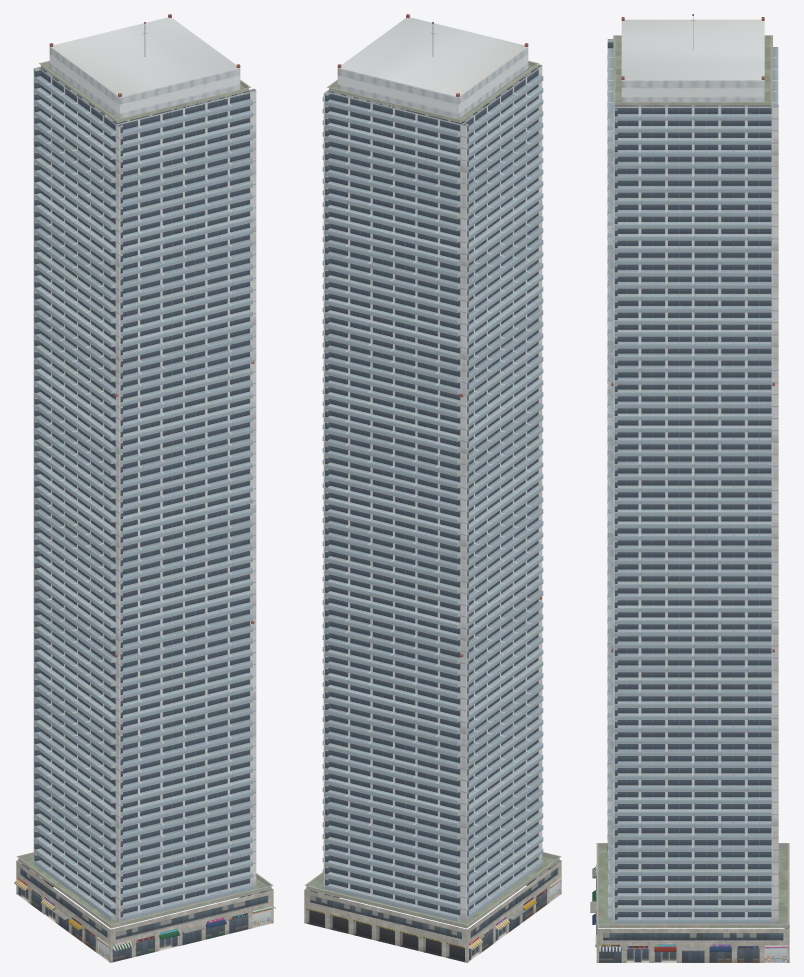
The model's file is tokyo_glasstower_d.glb.
The picture shows the model from 3 angles, left to right: view 1: azimuth 30°, elevation 25°; view 2: azimuth 150°, elevation 25°; view 3: azimuth 270°, elevation 25°; orthographic projection. The views are drawn at different scales.
Visible parts, largest first — view 1: tokyo_glasstower_d; view 2: tokyo_glasstower_d; view 3: tokyo_glasstower_d.
Boxes of the visible parts, bbox=[...] form: tokyo_glasstower_d: bbox=[14, 14, 275, 962]; tokyo_glasstower_d: bbox=[304, 14, 561, 962]; tokyo_glasstower_d: bbox=[590, 14, 789, 962].
Size of the model in its own units: 48.98 by 239 by 47.5.
1 material, 1 textured.
